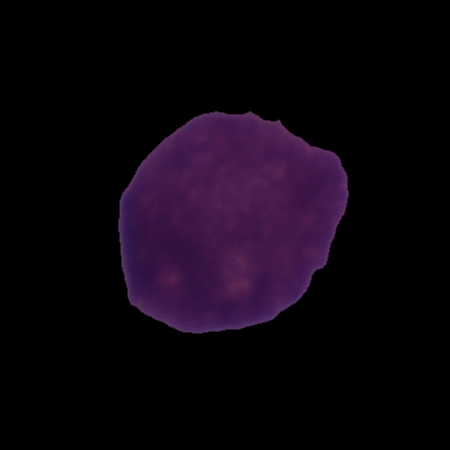ALL: (114, 107, 351, 337)
